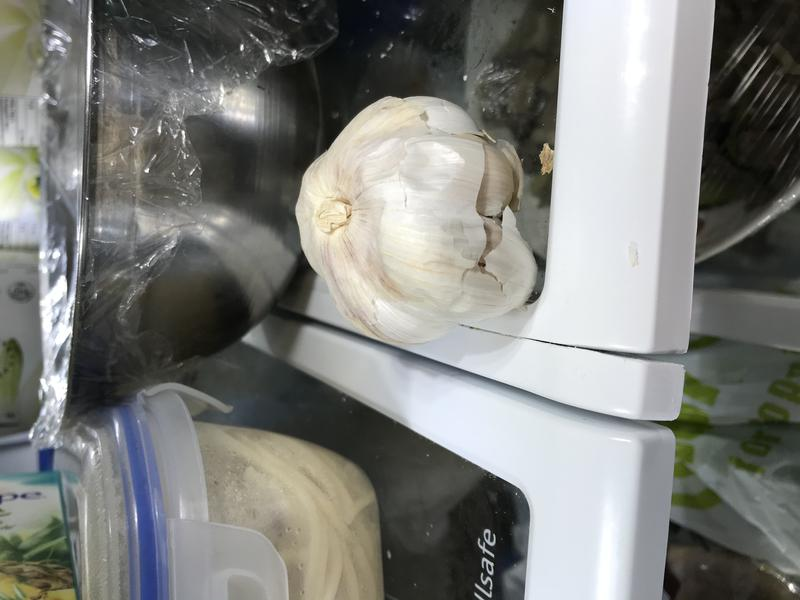garlic: (288, 87, 547, 354)
